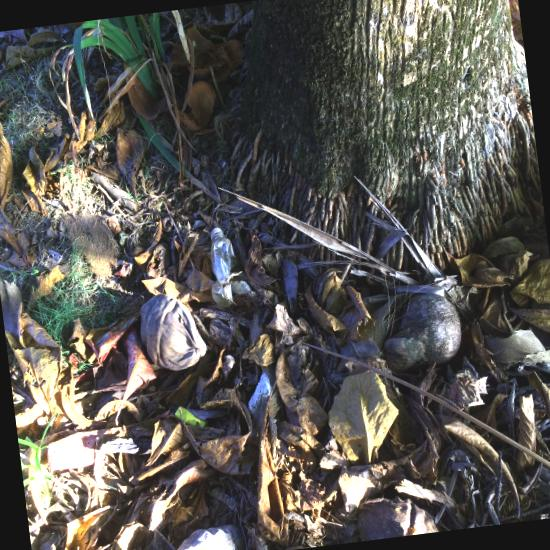Clear plastic bottle: (210, 227, 237, 307)
Plastic bottle cap: (210, 227, 224, 240)
Styrofoam piece: (248, 372, 273, 417)
